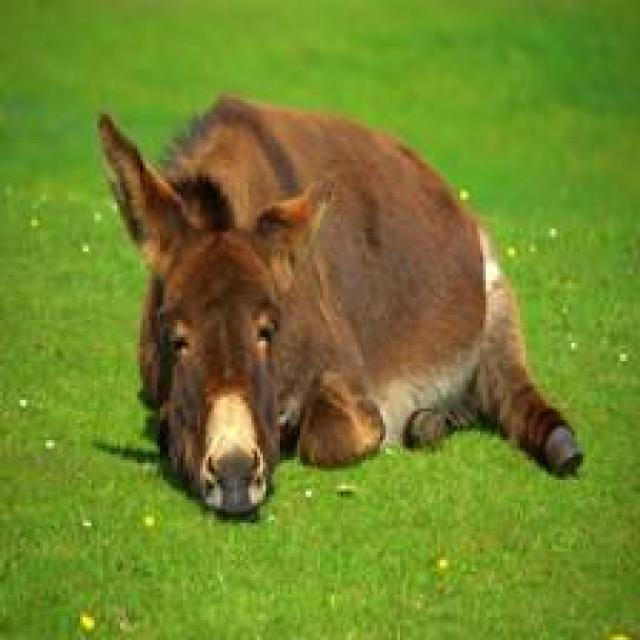Donkey: (94, 92, 583, 517)
